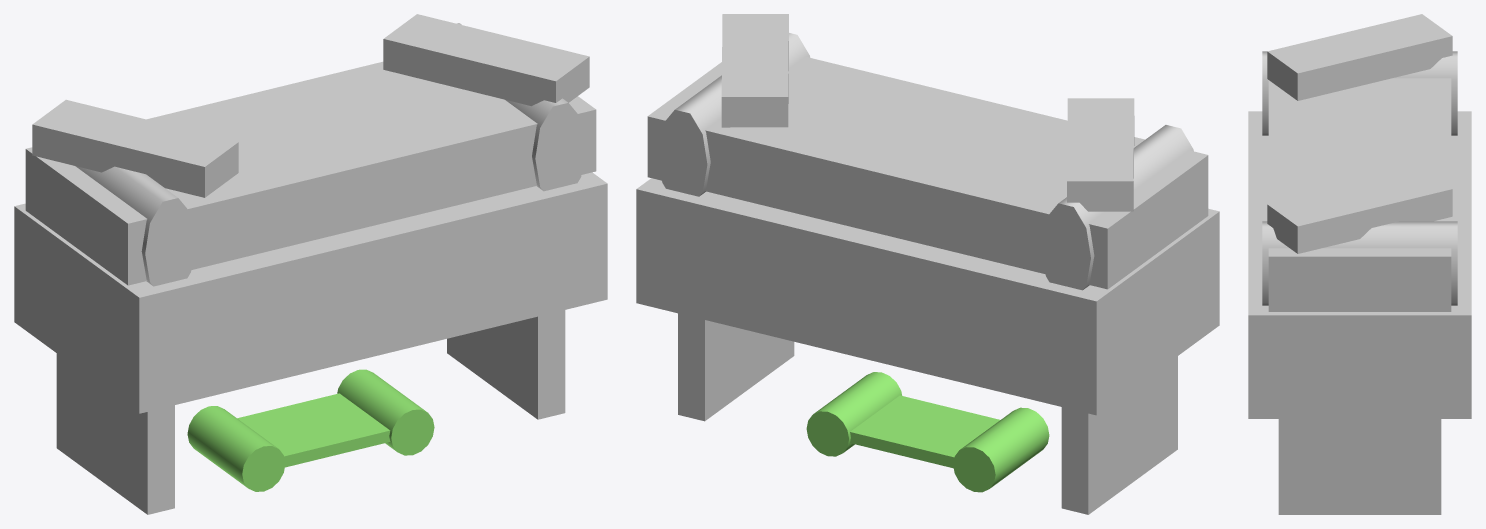
The picture shows the model from 3 angles, left to right: view 1: azimuth 30°, elevation 25°; view 2: azimuth 150°, elevation 25°; view 3: azimuth 270°, elevation 25°; orthographic projection. The views are drawn at different scales.
Visible parts, largest first — view 1: conveyor_frame_2, belt_1, diverter_8, diverter_7, support_4, visualRoller (×2), support_6, visualBelt, roller_3, roller_5; view 2: conveyor_frame_2, belt_1, support_4, visualRoller (×2), support_6, diverter_8, diverter_7, visualBelt, roller_3, roller_5; view 3: conveyor_frame_2, belt_1, support_6, diverter_7, diverter_8, roller_5, roller_3.
Part boxes in pixels (<box>): conveyor_frame_2: <box>14,172,607,413</box>; belt_1: <box>25,61,596,285</box>; diverter_8: <box>383,14,589,106</box>; diverter_7: <box>32,99,238,197</box>; support_4: <box>56,353,174,514</box>; visualRoller (×2): <box>187,369,434,491</box>; support_6: <box>447,310,565,419</box>; visualBelt: <box>237,393,390,467</box>; roller_3: <box>75,166,195,286</box>; roller_5: <box>457,23,585,191</box>; conveyor_frame_2: <box>636,178,1219,415</box>; belt_1: <box>647,57,1208,289</box>; support_4: <box>1061,356,1177,514</box>; visualRoller (×2): <box>806,372,1049,492</box>; support_6: <box>678,313,794,421</box>; diverter_8: <box>721,14,788,127</box>; diverter_7: <box>1067,98,1134,211</box>; visualBelt: <box>850,395,999,468</box>; roller_3: <box>1041,125,1193,290</box>; roller_5: <box>657,33,810,196</box>; conveyor_frame_2: <box>1248,111,1471,418</box>; belt_1: <box>1268,78,1451,311</box>; support_6: <box>1278,419,1441,514</box>; diverter_7: <box>1267,14,1452,100</box>; diverter_8: <box>1267,167,1452,253</box>; roller_5: <box>1262,221,1457,305</box>; roller_3: <box>1262,51,1457,135</box>.
Bounding box in the file's own units: 3.6 × 2.56 × 1.6.
